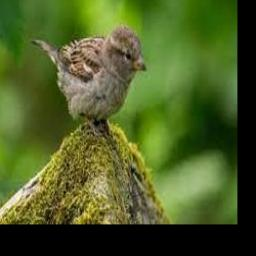Sparrow: (32, 23, 148, 135)
